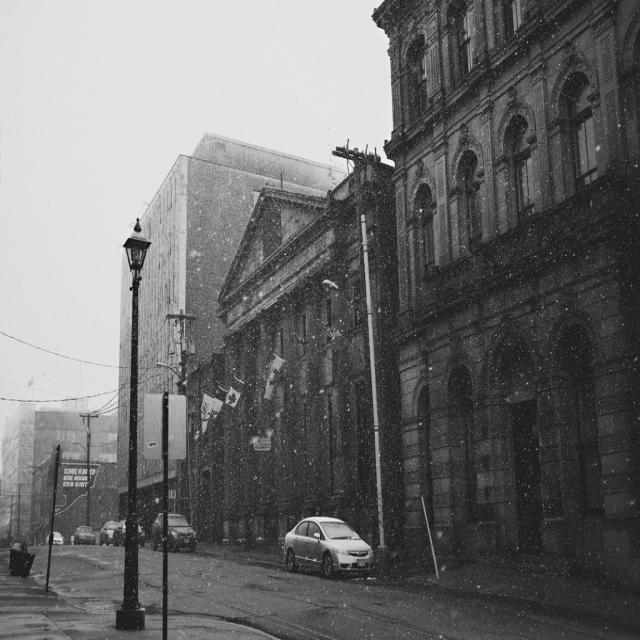car: (282, 514, 378, 573), (73, 522, 95, 542), (42, 526, 67, 543)
